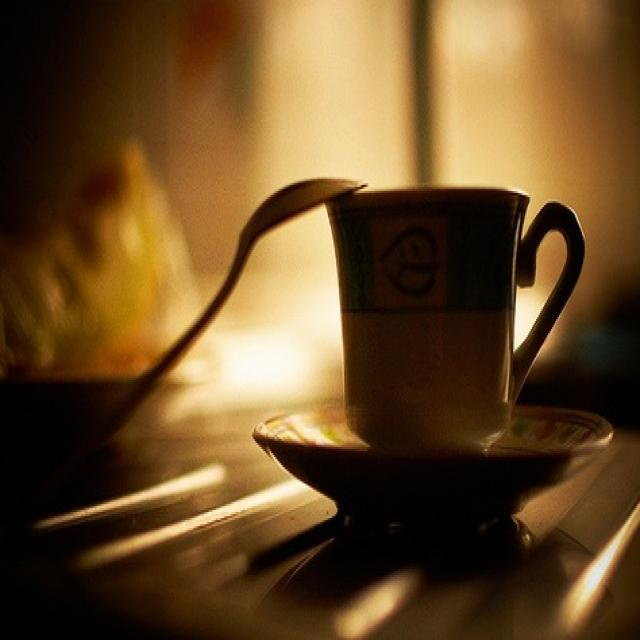Cup: (259, 153, 596, 511)
Table: (0, 368, 635, 640)
